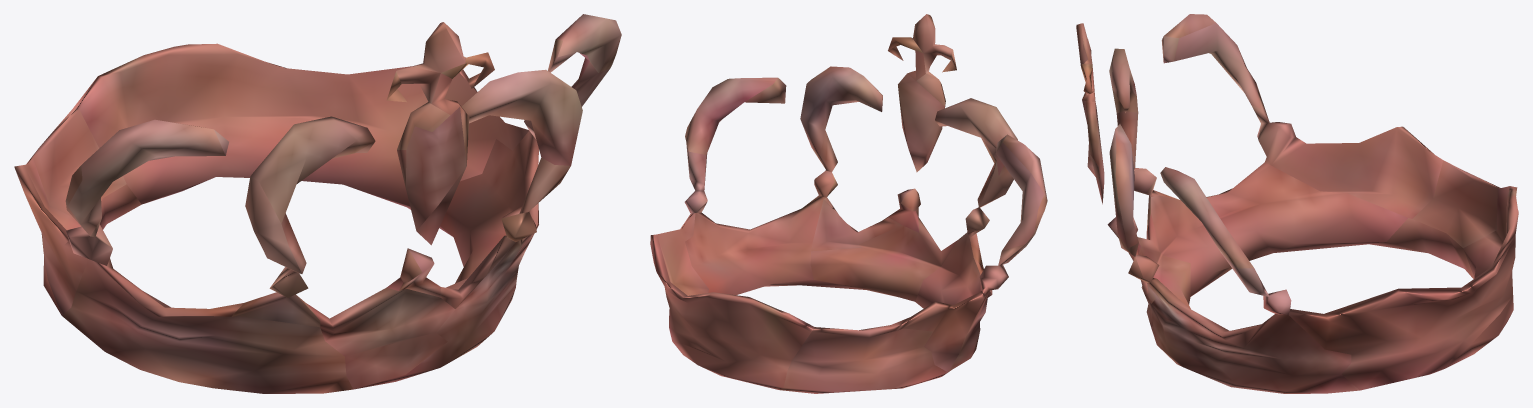
3 renders of one model, left to right at view 1: azimuth 30°, elevation 25°; view 2: azimuth 150°, elevation 25°; view 3: azimuth 270°, elevation 25°, orthographic. The views are drawn at different scales.
Parts seen in each view (by area): view 1: Pink-Crown-10; view 2: Pink-Crown-10; view 3: Pink-Crown-10.
Boxes of the visible parts, x1,y1,x2,y2 form: Pink-Crown-10: [14, 14, 621, 393]; Pink-Crown-10: [650, 14, 1047, 393]; Pink-Crown-10: [1076, 14, 1518, 393].
Size of the model in its own units: 0.2814 by 0.1938 by 0.2544.
1 material, 1 textured.
